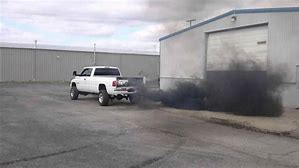smoke: (136, 62, 287, 117)
